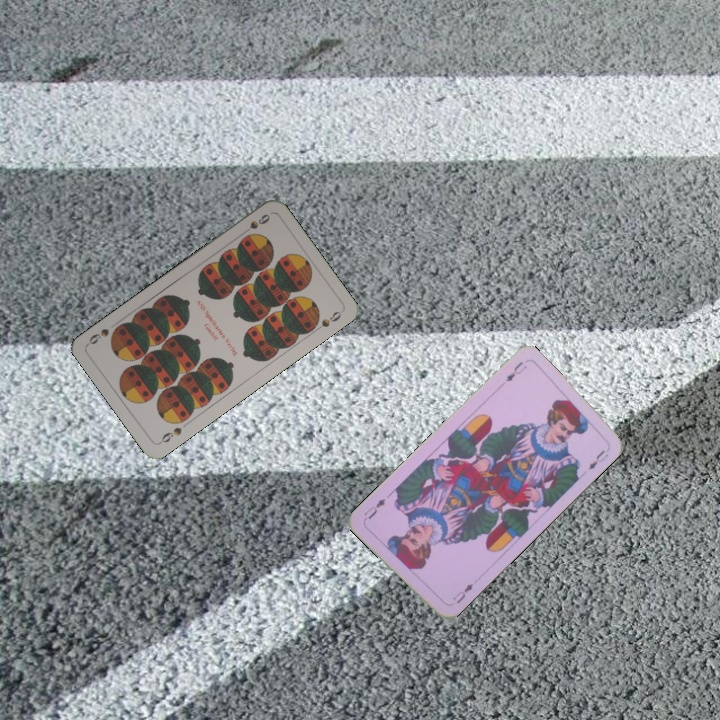EU: (448, 579, 476, 606), (502, 357, 529, 384)
S9: (237, 210, 273, 238), (155, 423, 184, 447)
